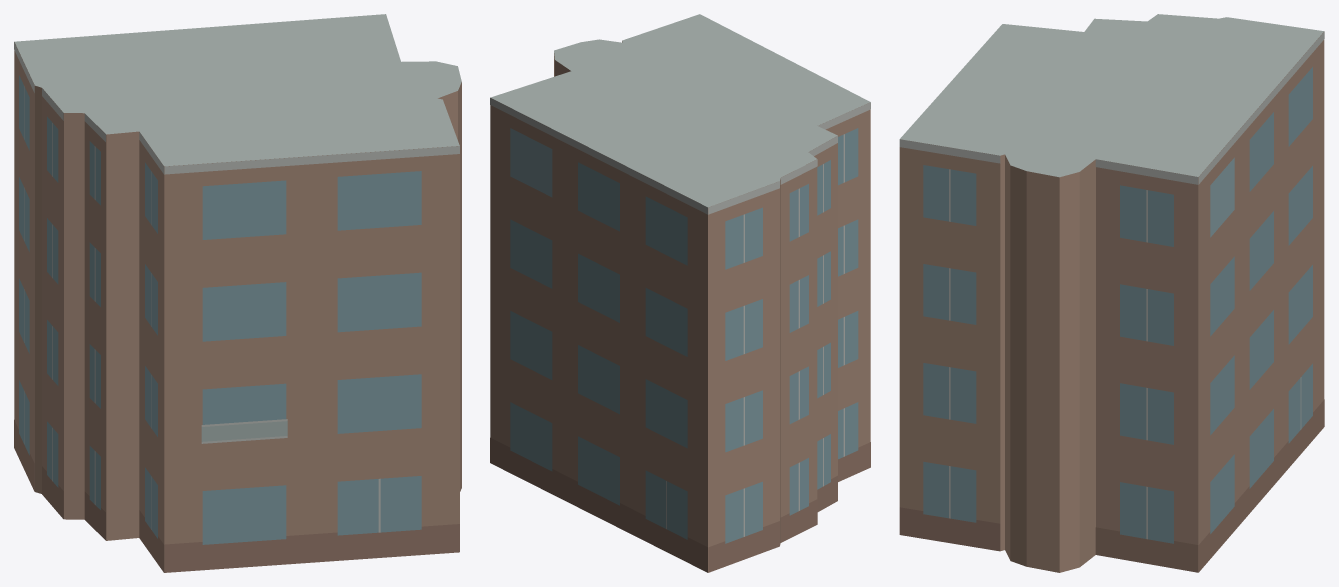
File: survey-upis-32648901.glb
The picture shows the model from 3 angles, left to right: view 1: azimuth 30°, elevation 25°; view 2: azimuth 150°, elevation 25°; view 3: azimuth 270°, elevation 25°; orthographic projection. The views are drawn at different scales.
Parts seen in each view (by area): view 1: survey-upis-32648901.tmp; view 2: survey-upis-32648901.tmp; view 3: survey-upis-32648901.tmp.
Boxes of the visible parts, left/top/right/bottom form: survey-upis-32648901.tmp: left=14, top=14, right=461, bottom=572; survey-upis-32648901.tmp: left=490, top=14, right=870, bottom=572; survey-upis-32648901.tmp: left=899, top=14, right=1324, bottom=572.
Size of the model in its own units: 10.8 by 12.2 by 11.88.
